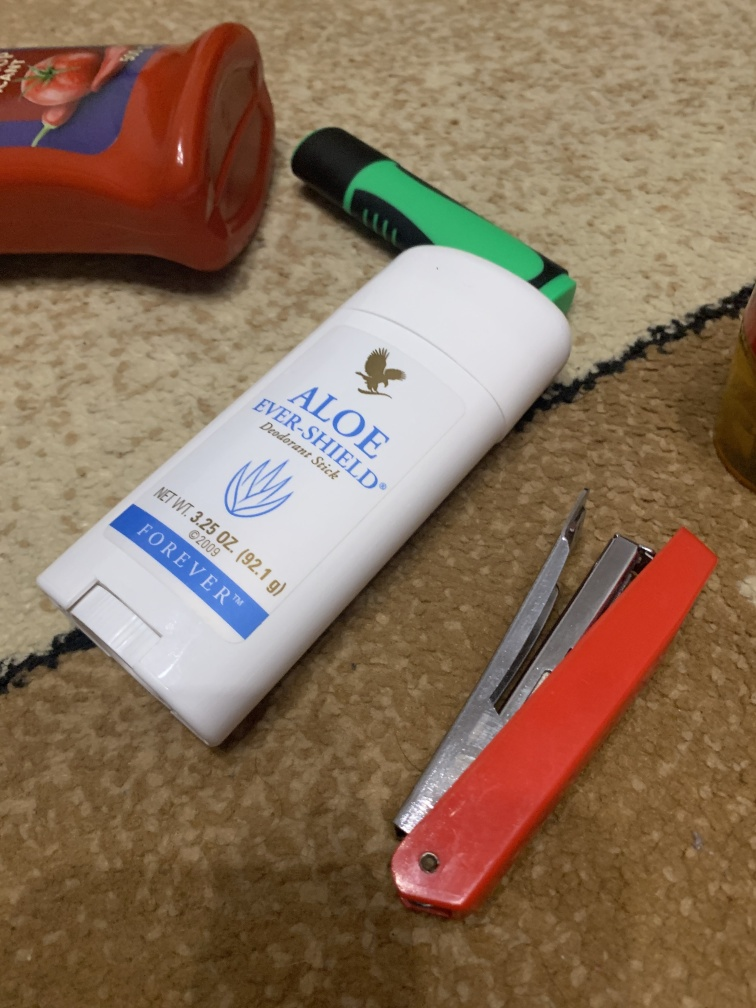ketchup: (1, 21, 281, 279)
